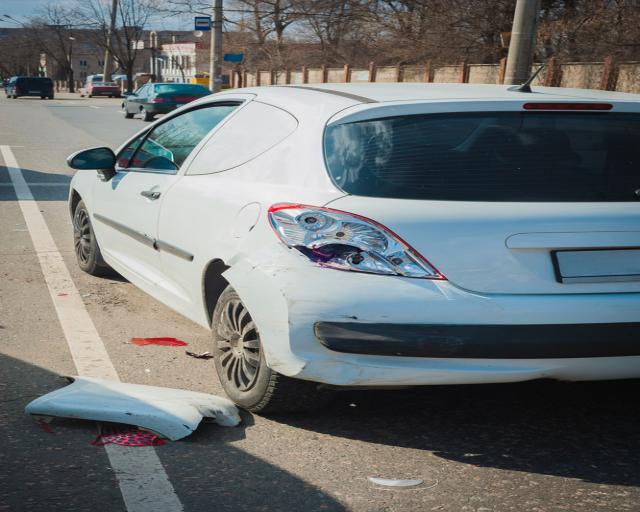dent: (312, 357, 428, 387)
lamp broken: (269, 203, 450, 280)
